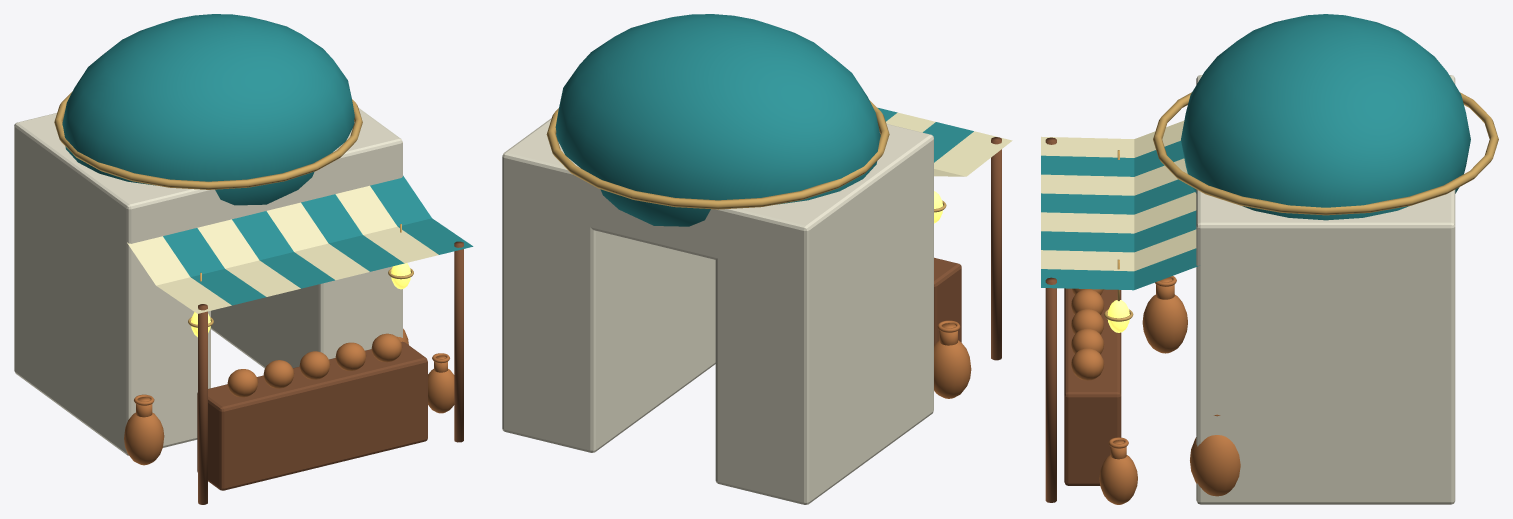
The model's file is market.glb.
3 views of the same model, side by side, from view 1: azimuth 30°, elevation 25°; view 2: azimuth 150°, elevation 25°; view 3: azimuth 270°, elevation 25° (orthographic). The views are drawn at different scales.
Parts seen in each view (by area): view 1: market_Carved limestone, market_Glazed turquoise, market_Cedar wood, market_Wildflower cream, market_Pottery copper, market_Antique bronze, market_Warm lantern light; view 2: market_Carved limestone, market_Glazed turquoise, market_Cedar wood, market_Antique bronze, market_Wildflower cream, market_Pottery copper; view 3: market_Carved limestone, market_Glazed turquoise, market_Wildflower cream, market_Cedar wood, market_Pottery copper, market_Antique bronze, market_Warm lantern light.
Boxes of the visible parts, x1=… form: market_Carved limestone: x1=14, y1=108, x2=402, y2=455; market_Glazed turquoise: x1=62, y1=14, x2=473, y2=305; market_Cedar wood: x1=197, y1=241, x2=463, y2=504; market_Wildflower cream: x1=127, y1=185, x2=438, y2=313; market_Pottery copper: x1=124, y1=328, x2=454, y2=465; market_Antique bronze: x1=54, y1=91, x2=413, y2=327; market_Warm lantern light: x1=191, y1=263, x2=410, y2=337; market_Carved limestone: x1=502, y1=118, x2=933, y2=504; market_Glazed turquoise: x1=555, y1=14, x2=973, y2=226; market_Cedar wood: x1=934, y1=137, x2=1001, y2=360; market_Antique bronze: x1=546, y1=100, x2=946, y2=212; market_Wildflower cream: x1=886, y1=112, x2=1012, y2=176; market_Pottery copper: x1=934, y1=320, x2=971, y2=398; market_Carved limestone: x1=1196, y1=75, x2=1455, y2=504; market_Glazed turquoise: x1=1041, y1=14, x2=1470, y2=290; market_Wildflower cream: x1=1041, y1=120, x2=1196, y2=271; market_Cedar wood: x1=1045, y1=137, x2=1121, y2=502; market_Pottery copper: x1=1071, y1=276, x2=1240, y2=504; market_Antique bronze: x1=1104, y1=92, x2=1498, y2=321; market_Warm lantern light: x1=1107, y1=300, x2=1129, y2=332.
Size of the model in its own units: 7.71 by 8.4 by 8.84.
